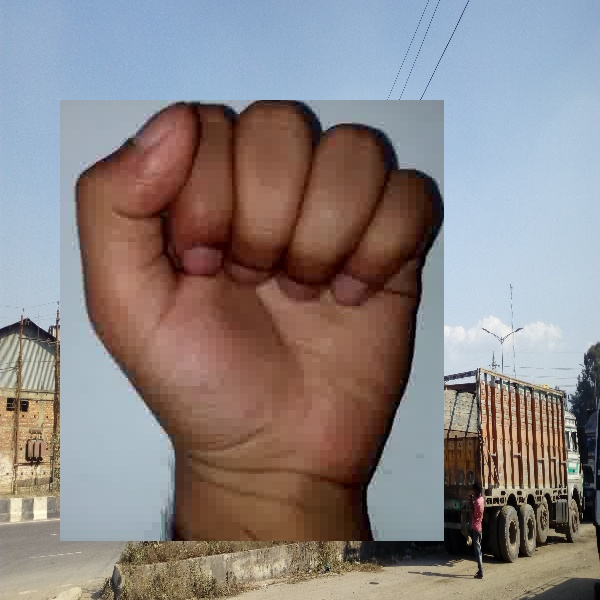A: (60, 100, 444, 541)
